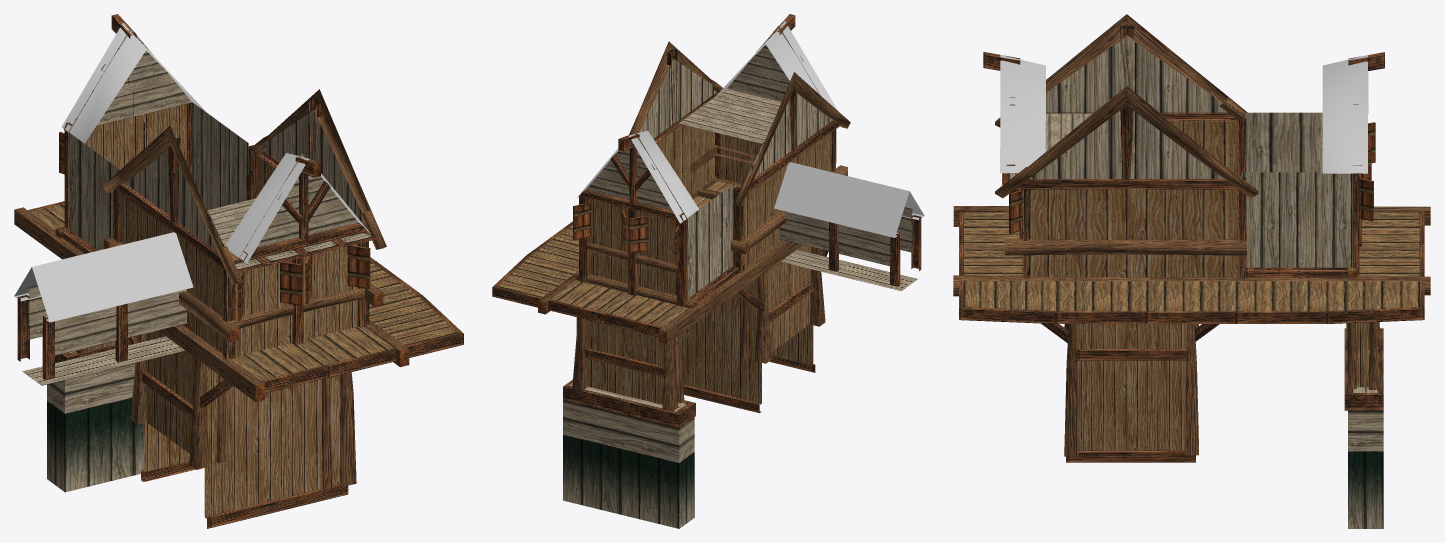
The model's file is LAKETOWN_EXTERIOR_PS_LT_FISHINGCOTTAGE95__GX.obj.
3 renders of one model, left to right at view 1: azimuth 30°, elevation 25°; view 2: azimuth 150°, elevation 25°; view 3: azimuth 270°, elevation 25°, orthographic. The views are drawn at different scales.
Parts seen in each view (by area): view 1: ngCottage95__GX; view 2: ngCottage95__GX; view 3: ngCottage95__GX.
Boxes of the visible parts, x1,y1,x2,y2 form: ngCottage95__GX: [14, 14, 463, 528]; ngCottage95__GX: [492, 14, 924, 528]; ngCottage95__GX: [953, 14, 1430, 528].
Bounding box in the file's own units: 1155 × 1400 × 1361.
